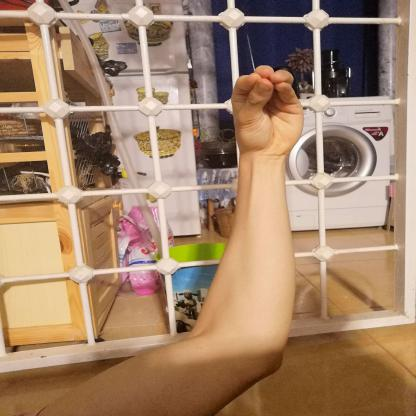HA: (215, 54, 321, 165)
